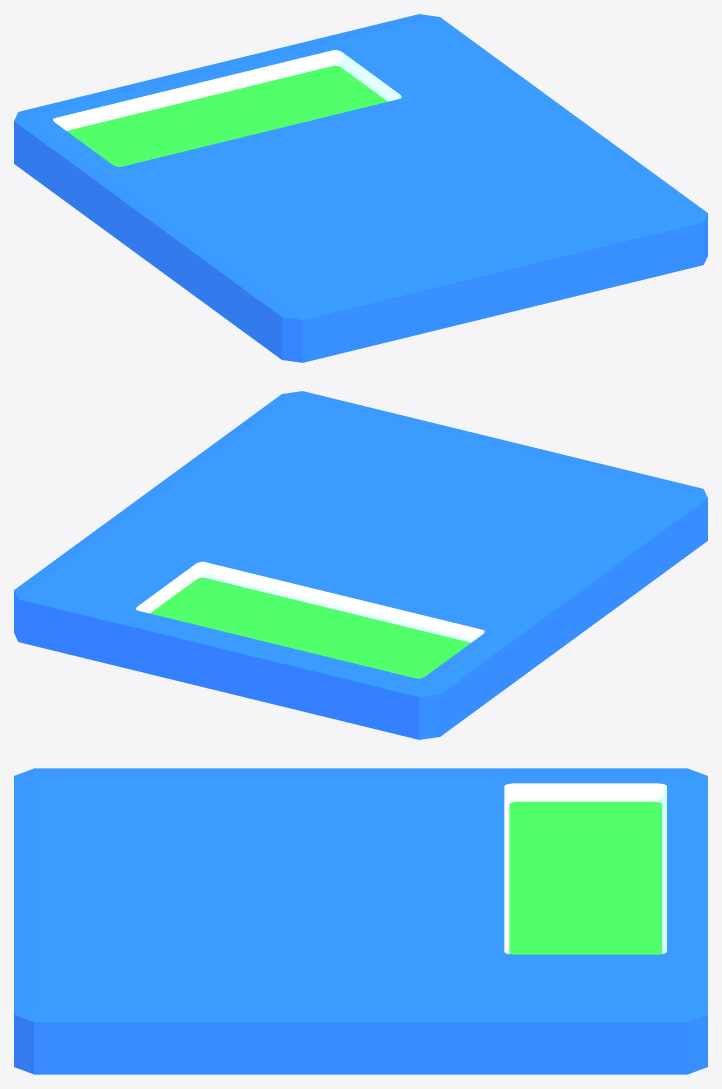
Rendered from calculator_body-transformed.glb.
The picture shows the model from 3 angles, top to bottom: view 1: azimuth 30°, elevation 25°; view 2: azimuth 150°, elevation 25°; view 3: azimuth 270°, elevation 25°; orthographic projection. The views are drawn at different scales.
Visible parts, largest first — view 1: Body, Screen, Screen_Inner_Rim_And_Bottom; view 2: Body, Screen, Screen_Inner_Rim_And_Bottom; view 3: Body, Screen, Screen_Inner_Rim_And_Bottom.
Boxes of the visible parts, <box> form: Body: <box>14,14,707,362</box>; Screen: <box>67,65,387,166</box>; Screen_Inner_Rim_And_Bottom: <box>53,50,401,130</box>; Body: <box>14,391,707,739</box>; Screen: <box>150,577,470,678</box>; Screen_Inner_Rim_And_Bottom: <box>136,561,484,642</box>; Body: <box>14,768,707,1074</box>; Screen: <box>509,801,661,954</box>; Screen_Inner_Rim_And_Bottom: <box>504,783,666,953</box>.
Size of the model in its own units: 7.18 by 0.7333 by 8.3.
